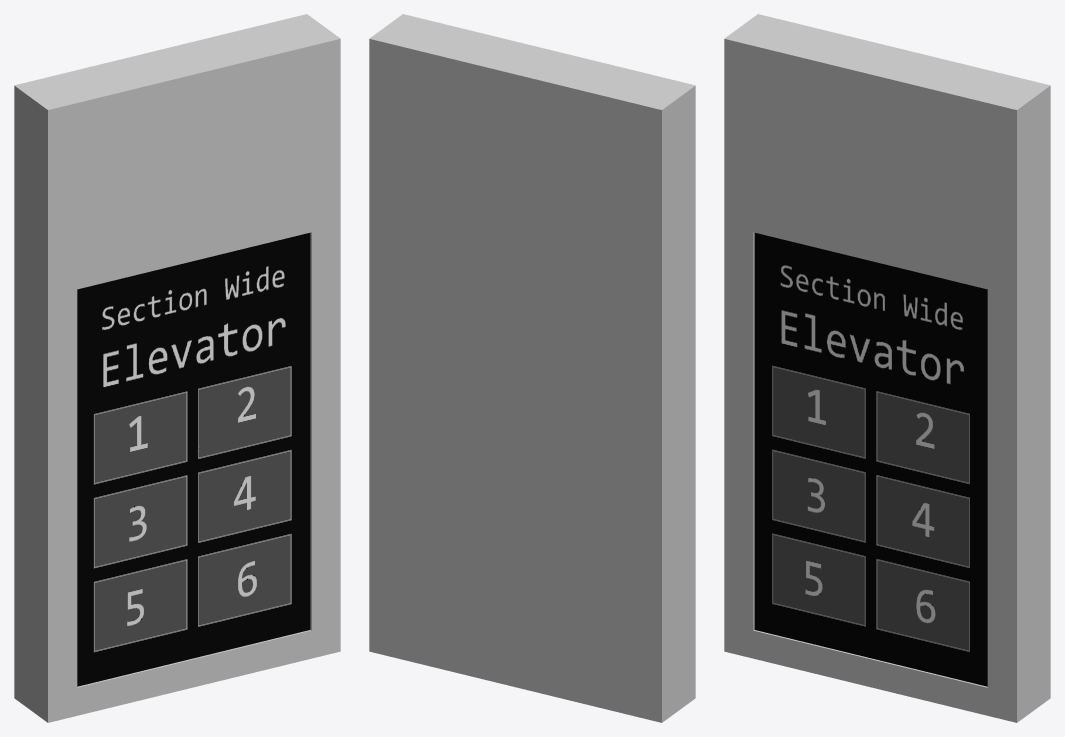
The model's file is ControlPanel.fbx.
3 renders of one model, left to right at view 1: azimuth 30°, elevation 25°; view 2: azimuth 150°, elevation 25°; view 3: azimuth 330°, elevation 25°, orthographic.
Visible parts, largest first — view 1: node_id7 (×2); view 2: node_id7; view 3: node_id7 (×2).
Part boxes in pixels (x1=…): node_id7 (×2): x1=14, y1=14, x2=340, y2=722; node_id7: x1=369, y1=14, x2=695, y2=722; node_id7 (×2): x1=724, y1=14, x2=1050, y2=722.
Size of the model in its own units: 0.256 by 0.512 by 0.0512.
2 materials, 1 textured.
